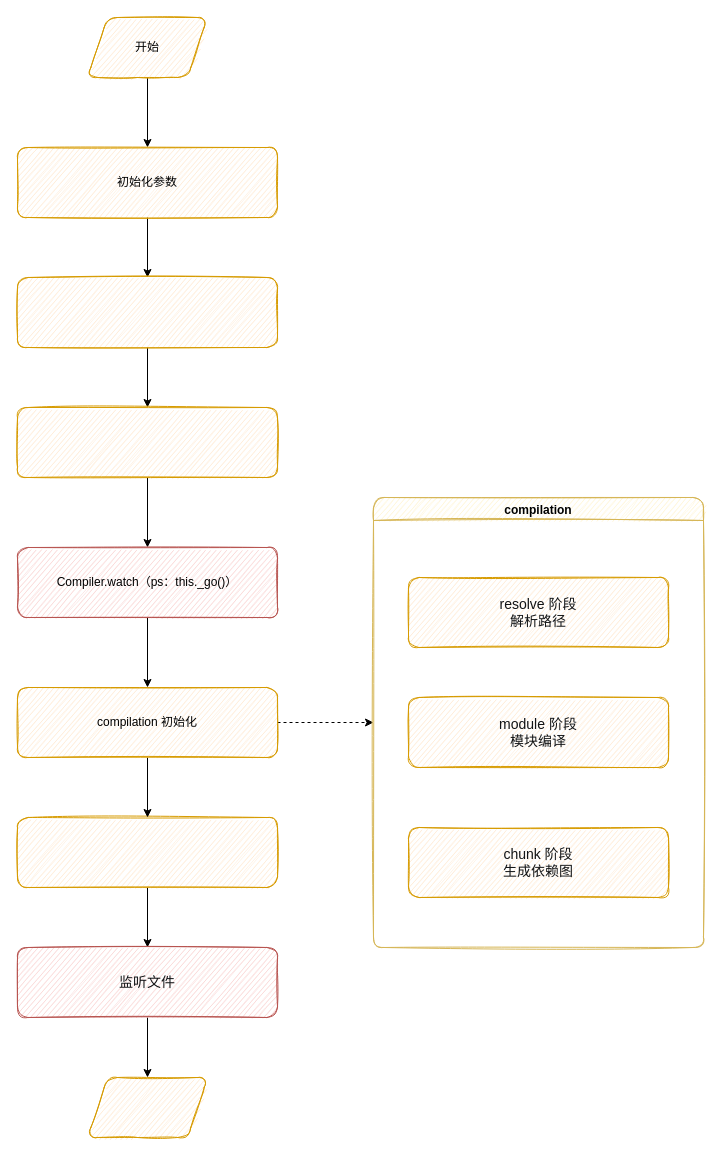
The diagram is 721 pixels wide and 1155 high, and some of its shapes have lost their labels. Each missing label, with the centre of its shape:
为 Compiler 加载配置插件，文件监听事件: (x=147, y=442)
初始化 Compiler: (x=147, y=312)
结束: (x=147, y=1107)
输出资源: (x=147, y=852)
